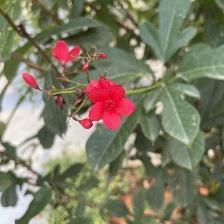jatropha: (87, 85, 138, 132)
